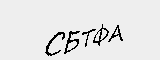Ж: (100, 15, 125, 39)
О: (66, 18, 86, 39), (125, 16, 144, 38)
Х: (37, 15, 67, 39)
Ю: (8, 12, 38, 35)
Қ: (84, 16, 100, 43)
